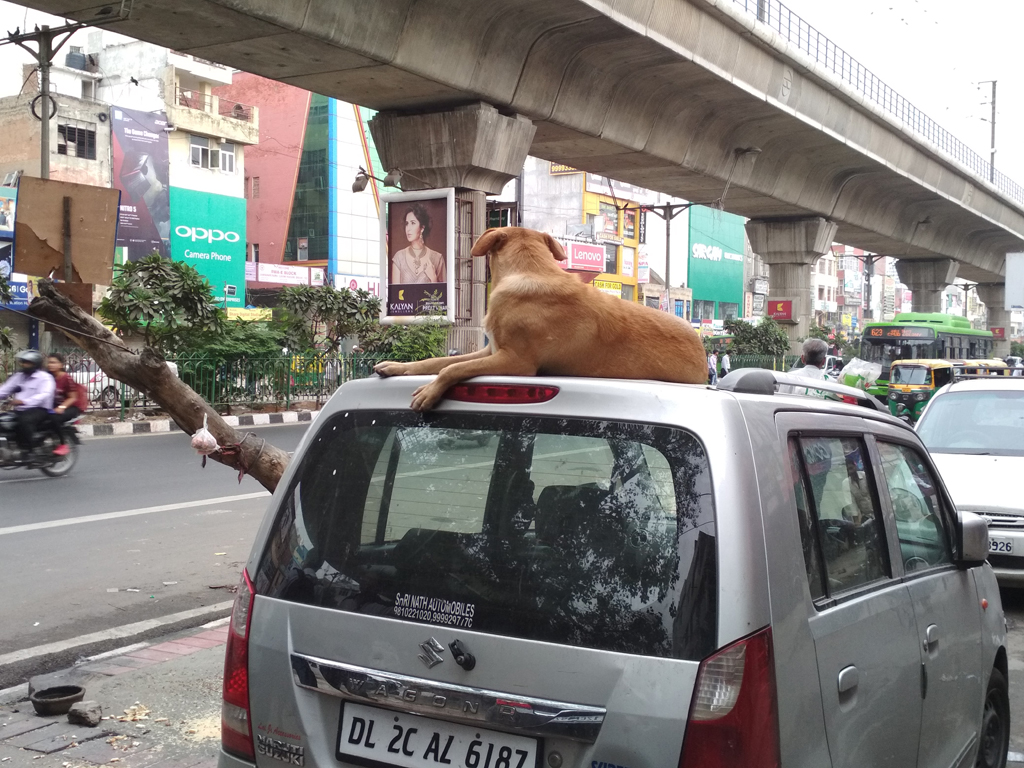dog: (369, 228, 710, 410)
